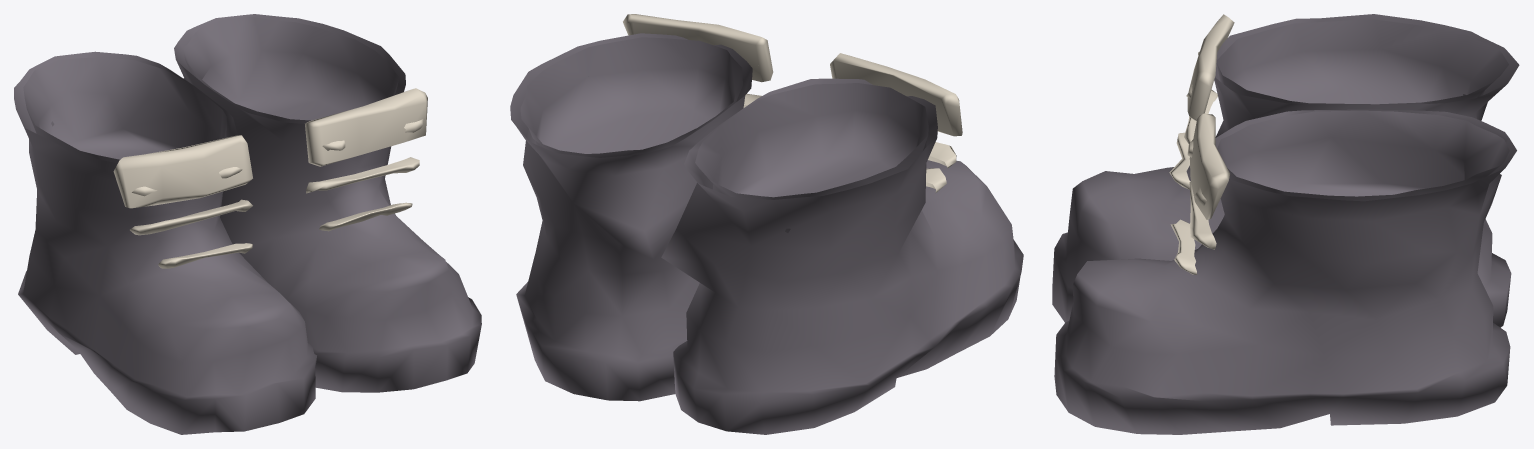
File: boots-only.glb
3 renders of one model, left to right at view 1: azimuth 30°, elevation 25°; view 2: azimuth 150°, elevation 25°; view 3: azimuth 270°, elevation 25°, orthographic. The views are drawn at different scales.
Visible parts, largest first — view 1: Footwear_boots_0, Footwear_boots_1; view 2: Footwear_boots_0, Footwear_boots_1; view 3: Footwear_boots_0, Footwear_boots_1.
Part boxes in pixels (x1,y1,x2,y2): Footwear_boots_0: (14,14,481,434); Footwear_boots_1: (113,88,427,268); Footwear_boots_0: (510,33,1023,434); Footwear_boots_1: (623,14,962,192); Footwear_boots_0: (1052,14,1519,434); Footwear_boots_1: (1169,14,1234,274).
Size of the model in its own units: 0.9166 by 0.5889 by 0.966.
